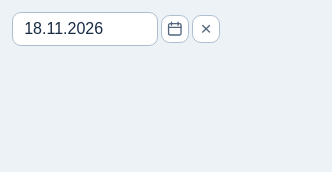
does not save partial or impossible text and restores the last valid value on blur
The image size is (332, 172).
Later steps or results of the test are not shown.
Replace the text in the field named "Дата" with "31.02.2026" at (85, 29), box [12, 12, 158, 46]
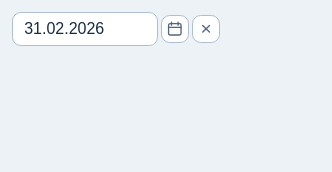
Leave the field named "Дата", box [12, 12, 158, 46]
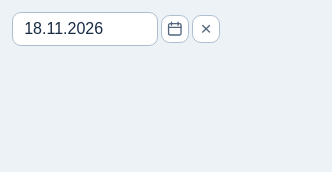
Expected: the field named "Дата" holds "18.11.2026", [12, 12, 158, 46]
